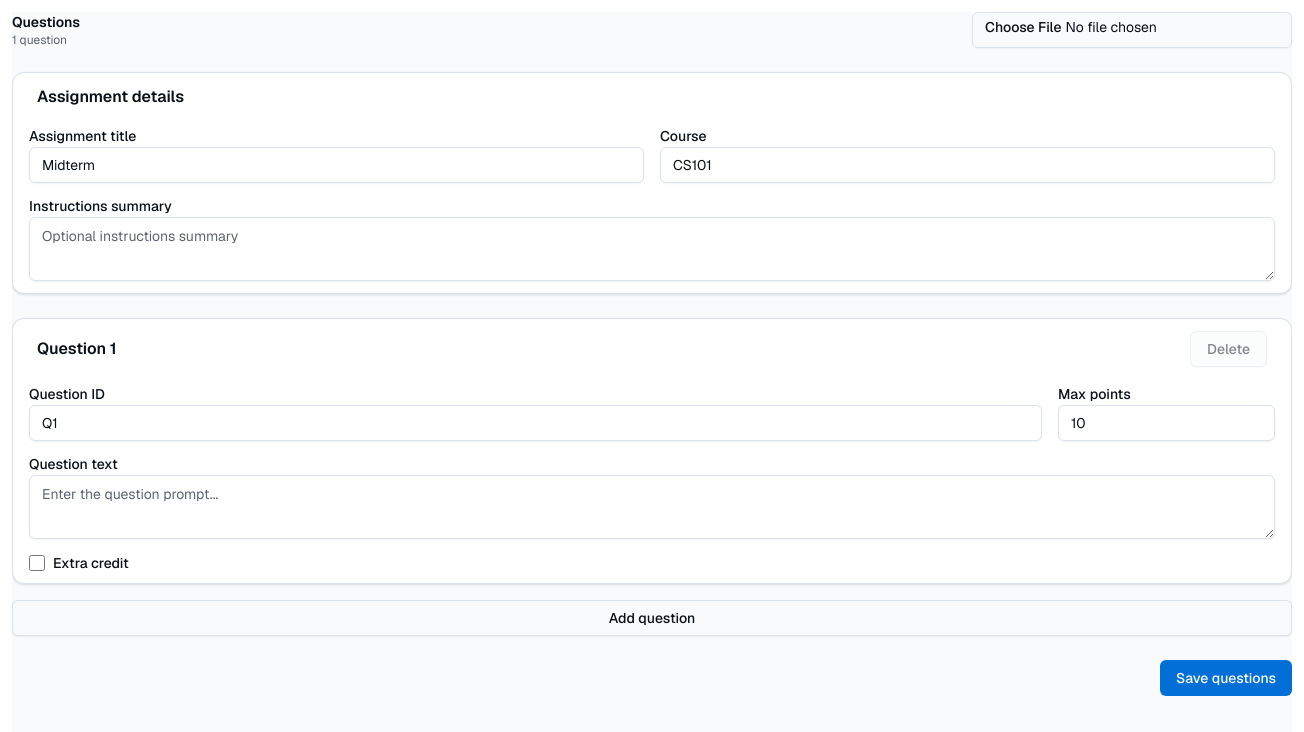
Test: canEdit=true with no saved questions (edit mode) › clicking Add question appends a second card
The image size is (1304, 732).
Click the button "Add question". click: coordinates (652, 618)
box: top-left (12, 600), bottom-right (1292, 636)
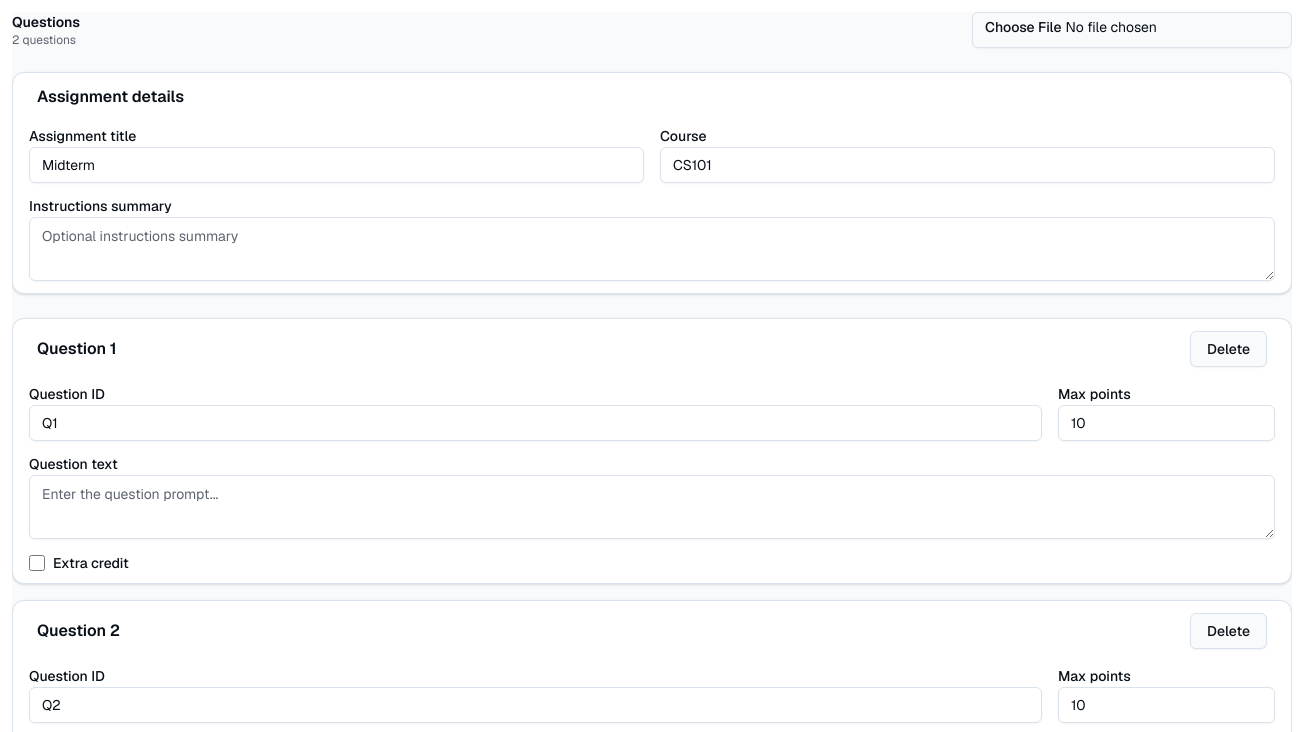
expect the text "Question 2" is shown: met, box top-left (37, 619), bottom-right (120, 643)
